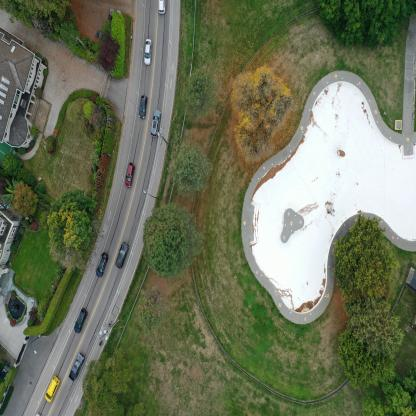Coniferous Tree: (225, 60, 291, 158), (141, 207, 201, 276), (337, 330, 401, 388), (350, 309, 405, 356), (169, 150, 212, 189), (139, 285, 168, 336), (182, 74, 214, 118), (105, 360, 135, 399), (86, 389, 127, 416), (12, 184, 39, 214), (22, 0, 56, 21), (124, 399, 150, 416)
Deciduous Tree: (340, 217, 394, 312), (317, 0, 416, 47), (364, 381, 416, 416), (54, 211, 95, 248), (99, 38, 117, 69)
